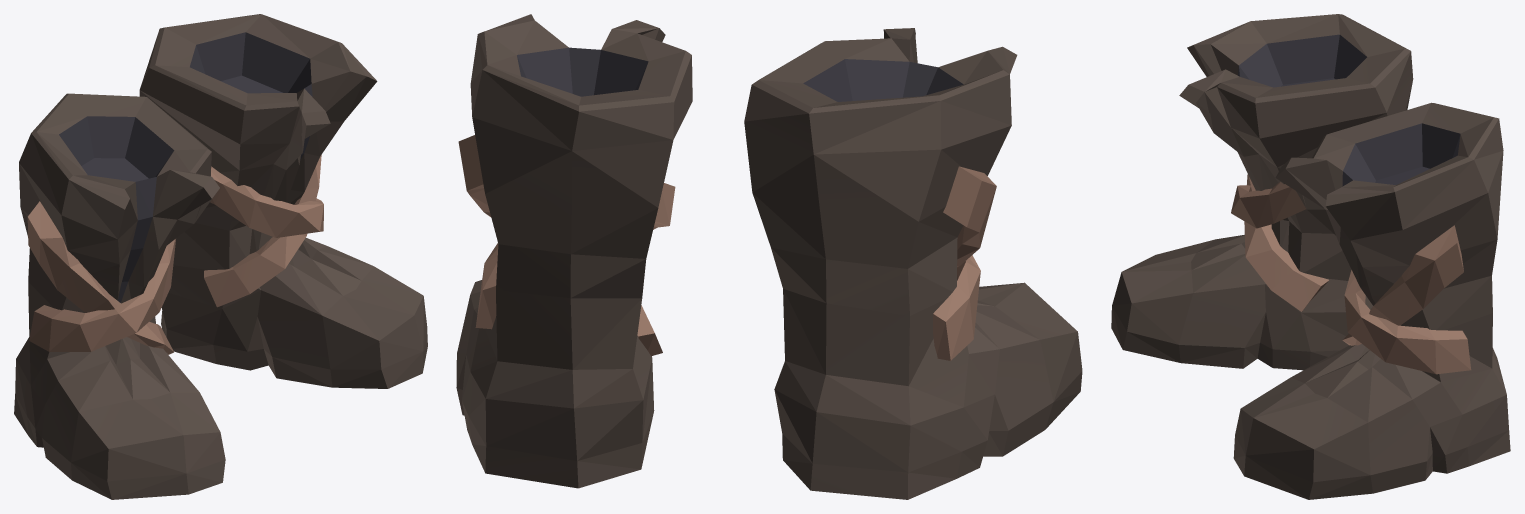
File: bootsWornLeatherDisplay.fbx
3 renders of one model, left to right at view 1: azimuth 30°, elevation 25°; view 2: azimuth 150°, elevation 25°; view 3: azimuth 270°, elevation 25°, orthographic. The views are drawn at different scales.
Parts seen in each view (by area): view 1: bootsWornLeatherDisplay; view 2: bootsWornLeatherDisplay; view 3: bootsWornLeatherDisplay.
Part boxes in pixels (x1,y1,x2,y2): bootsWornLeatherDisplay: (14, 14, 427, 499); bootsWornLeatherDisplay: (456, 14, 1082, 499); bootsWornLeatherDisplay: (1111, 14, 1510, 499).
Bounding box in the file's own units: 1.53 × 1.09 × 1.29.
